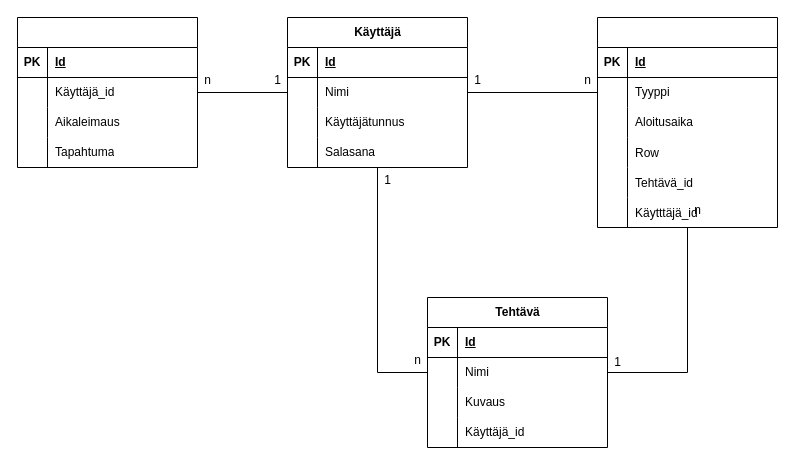
This 795x465 diagram has some shape labels left out. Here are the shapes that lost their labels. From the top down, the box of each, then its label:
(16, 16, 198, 168): Lokit
(596, 16, 778, 228): Ajanmerkinnät
